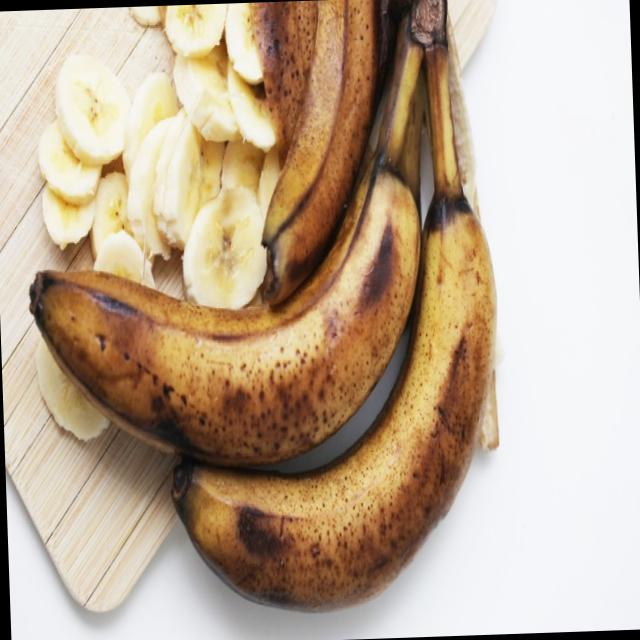banana_peel: (163, 0, 512, 623), (25, 0, 429, 474)
